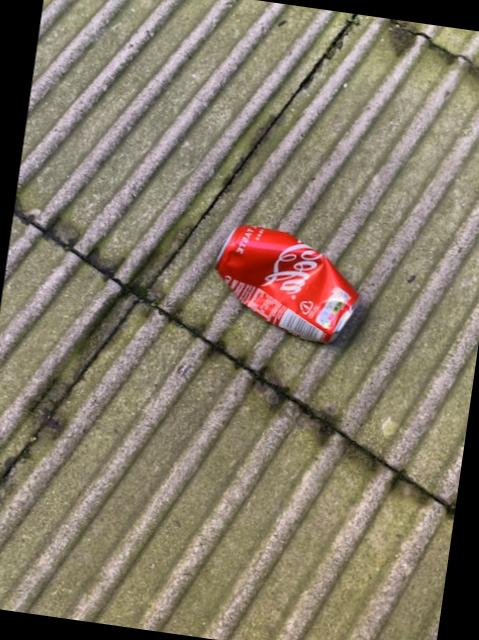metal: (214, 226, 355, 343)
